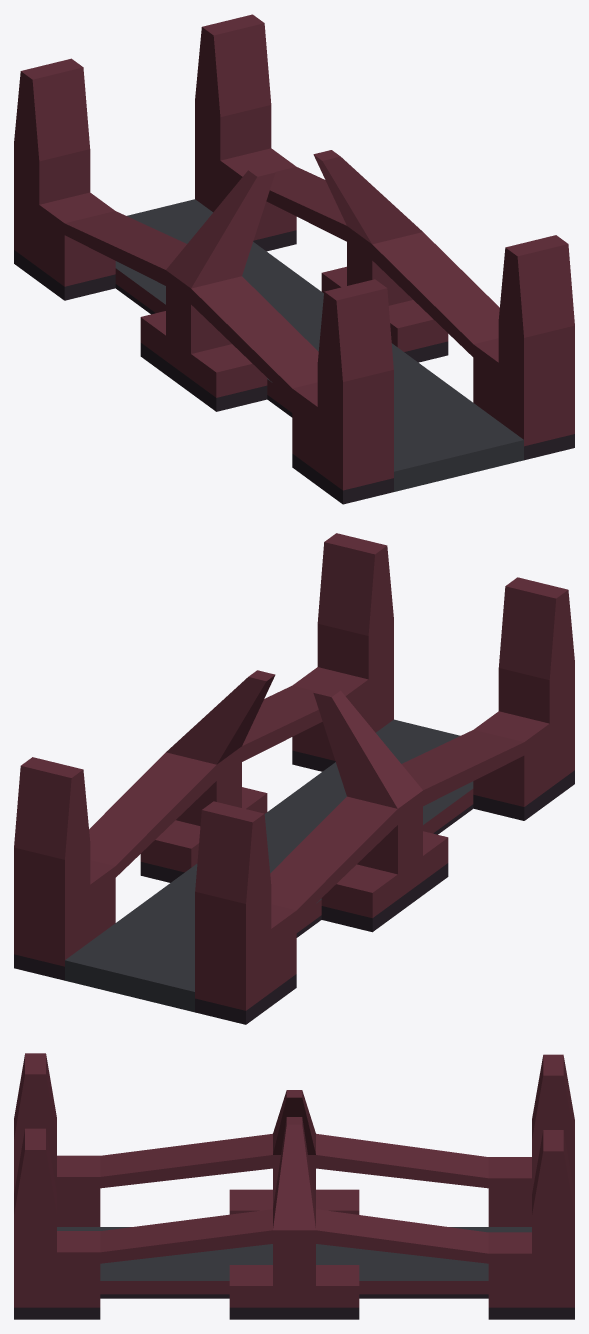
Rendered from Bridge.fbx.
3 renders of one model, top to bottom at view 1: azimuth 30°, elevation 25°; view 2: azimuth 150°, elevation 25°; view 3: azimuth 270°, elevation 25°, orthographic. The views are drawn at different scales.
Visible parts, largest first — view 1: Cube; view 2: Cube; view 3: Cube.
Part boxes in pixels (left/top/right/bottom): Cube: left=14, top=14, right=574, bottom=504; Cube: left=14, top=533, right=574, bottom=1024; Cube: left=14, top=1053, right=574, bottom=1319.
Bounding box in the file's own units: 1626 × 1334 × 3993.
1 material, 1 textured.
